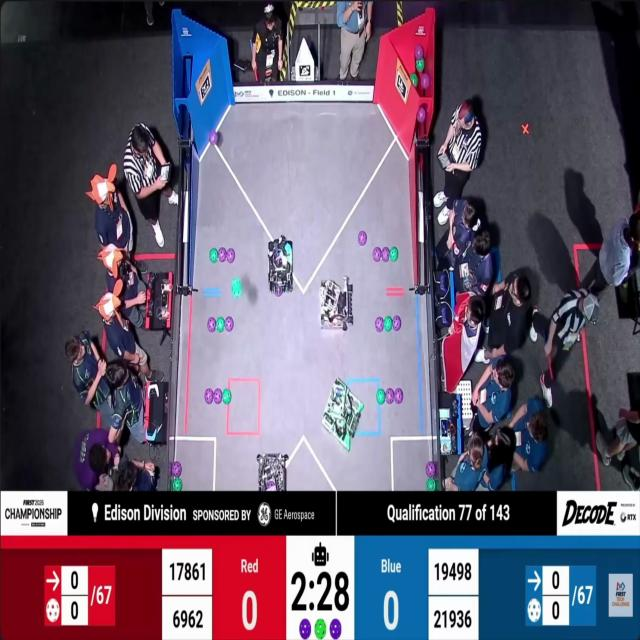artifact_green: (315, 619, 326, 639), (232, 278, 241, 297), (376, 389, 385, 404), (172, 478, 182, 491), (416, 58, 425, 72), (223, 389, 231, 404), (217, 317, 225, 332), (210, 248, 218, 263), (390, 247, 398, 262), (427, 478, 436, 491), (385, 316, 392, 331), (338, 418, 346, 430), (411, 74, 418, 86), (356, 403, 364, 413), (285, 243, 291, 256), (435, 480, 440, 491)
artifact_purple: (299, 619, 311, 640), (330, 619, 341, 639), (439, 273, 449, 294), (420, 71, 430, 90), (426, 461, 436, 477), (171, 462, 181, 478), (417, 106, 426, 123), (226, 248, 235, 264), (209, 130, 218, 146), (213, 388, 222, 404), (394, 388, 403, 404), (375, 316, 384, 332), (358, 230, 367, 246), (415, 45, 424, 60), (205, 389, 214, 404), (265, 480, 277, 491), (386, 388, 394, 404), (219, 248, 228, 262), (208, 317, 216, 332), (382, 247, 390, 262), (373, 247, 381, 262), (393, 316, 401, 331), (225, 317, 233, 331), (275, 287, 283, 297)
